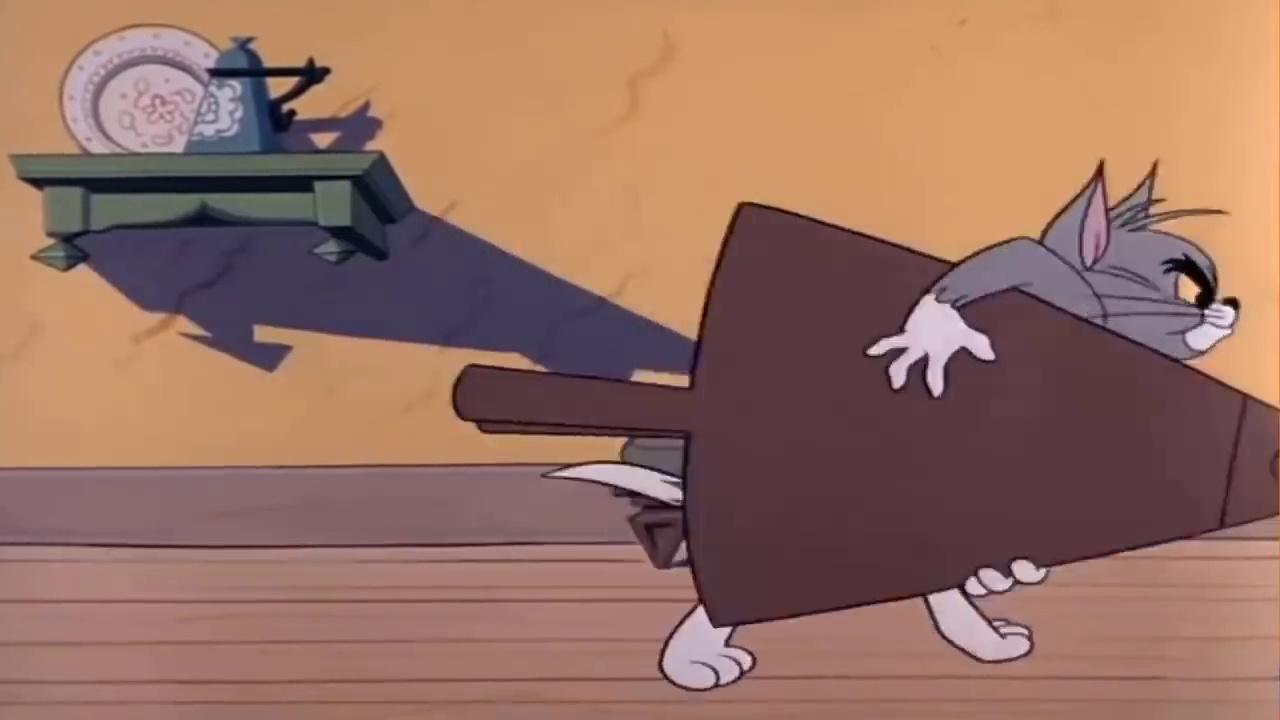face: (1151, 241, 1247, 359)
